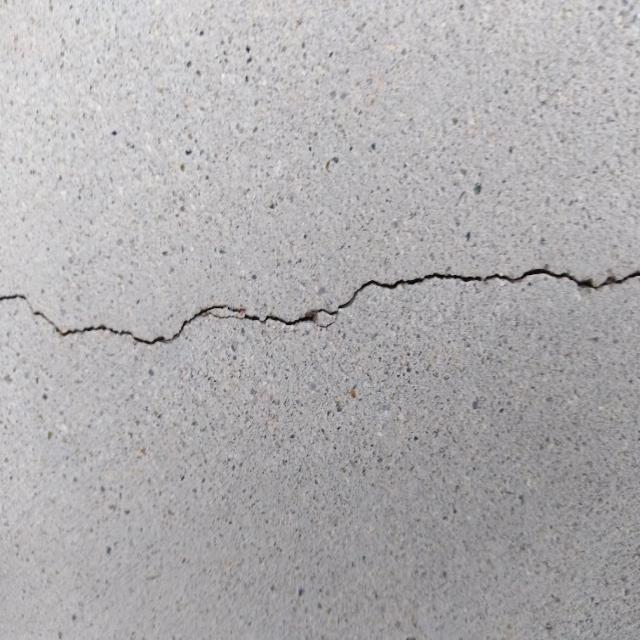horizontal crack: (0, 265, 639, 346)
